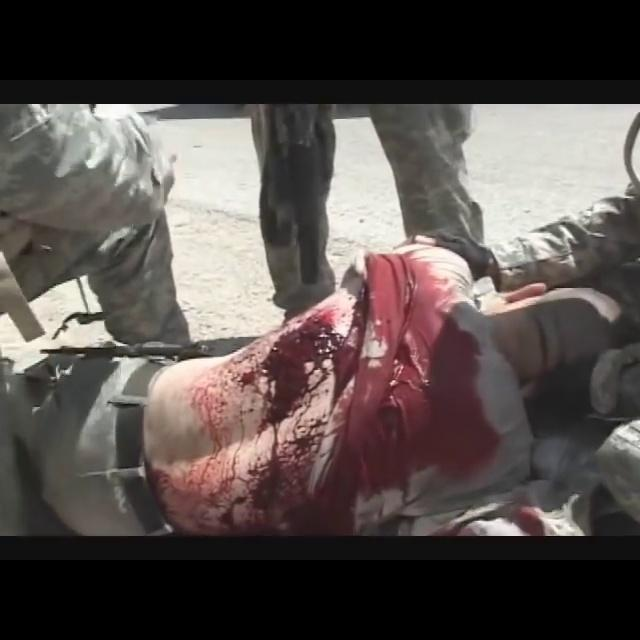blood: (151, 249, 493, 535), (513, 507, 547, 537)
